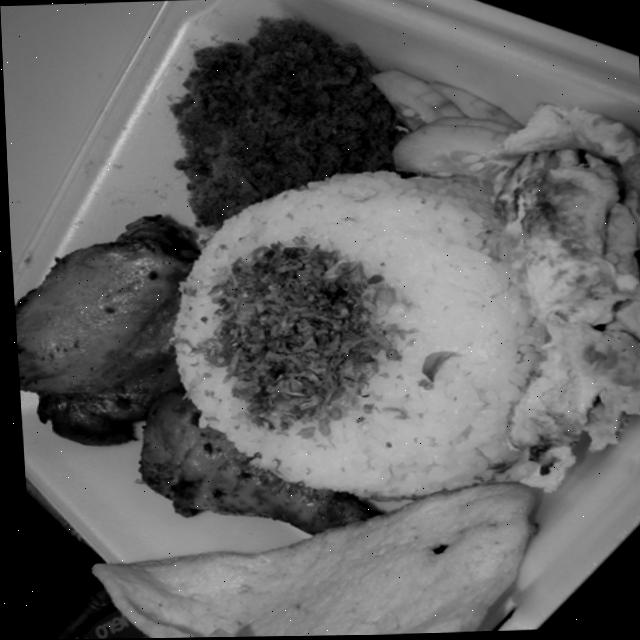米饭主食: (13, 2, 640, 624)
